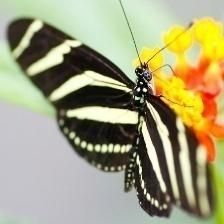butterfly: (8, 19, 213, 218)
